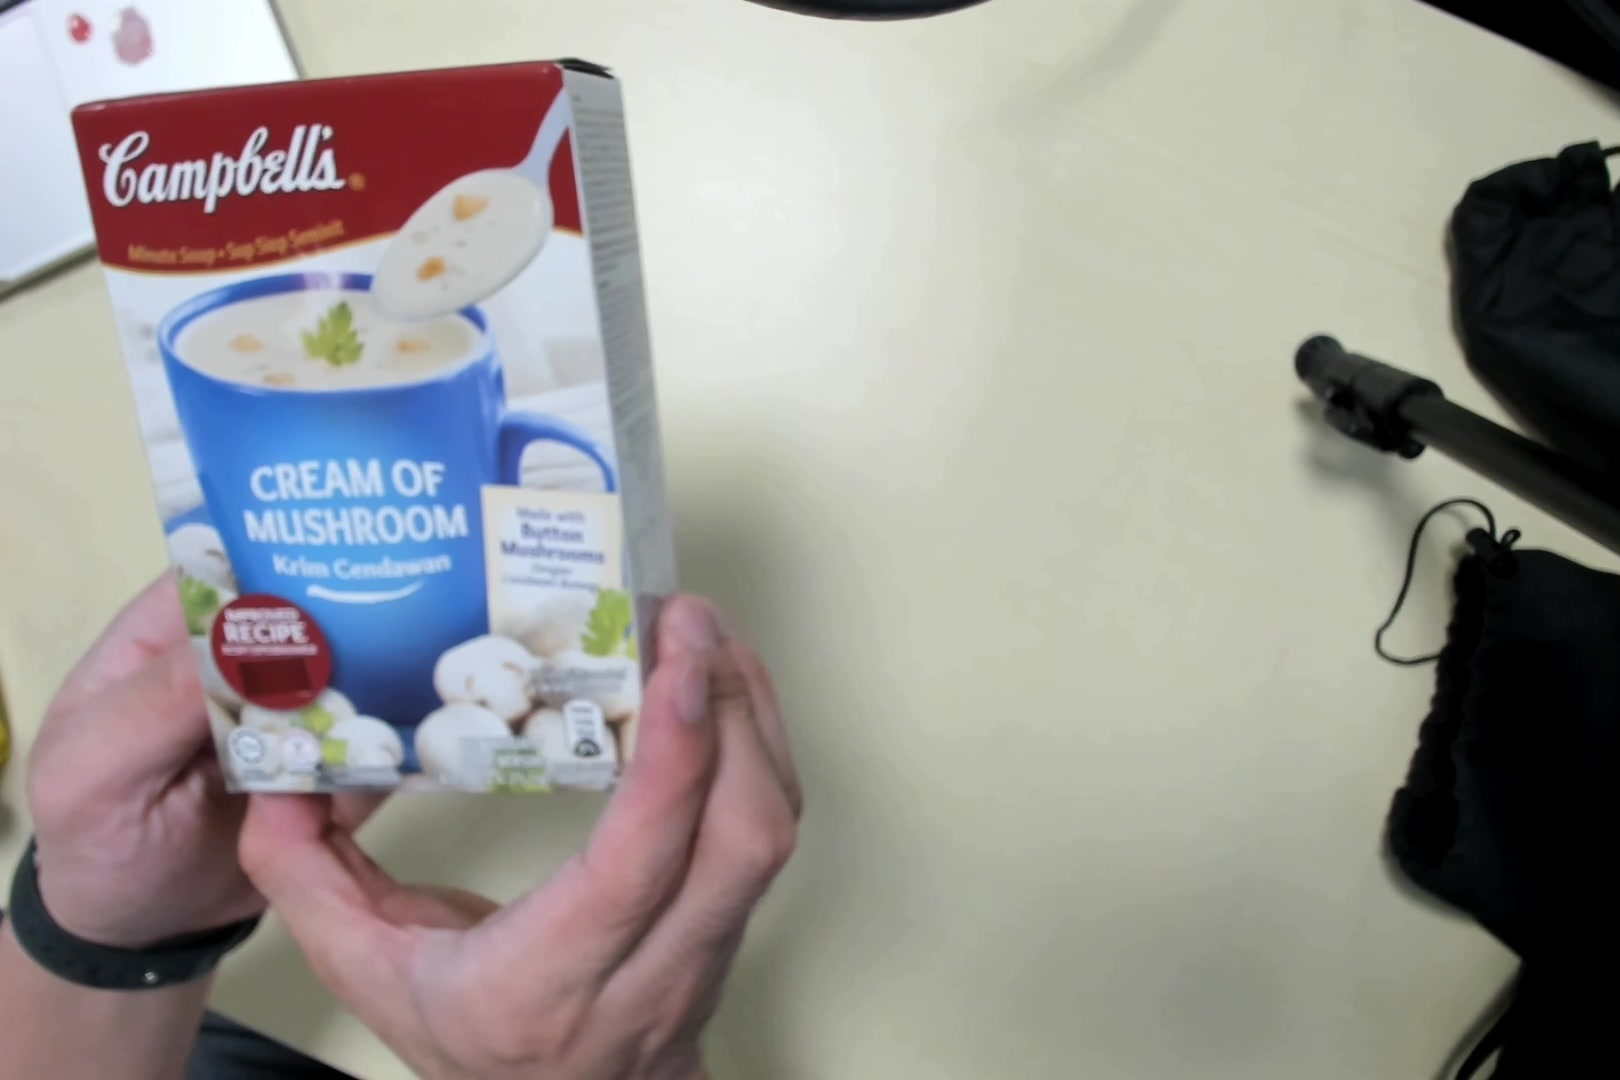InstantMeals_0-99g_Halal_NonHealthy: (72, 58, 679, 812)
